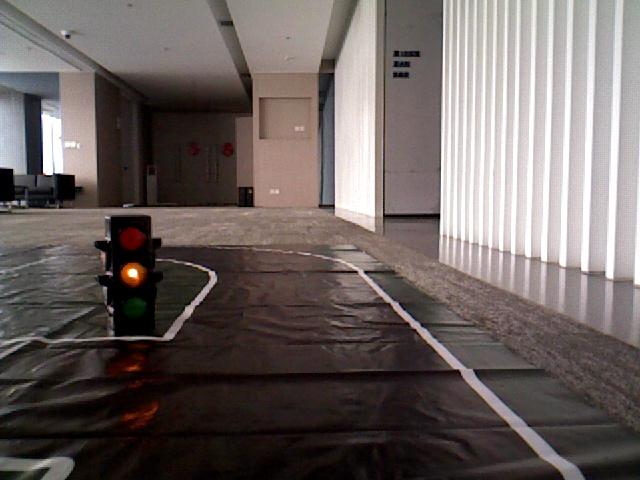yellow: (108, 216, 150, 322)
